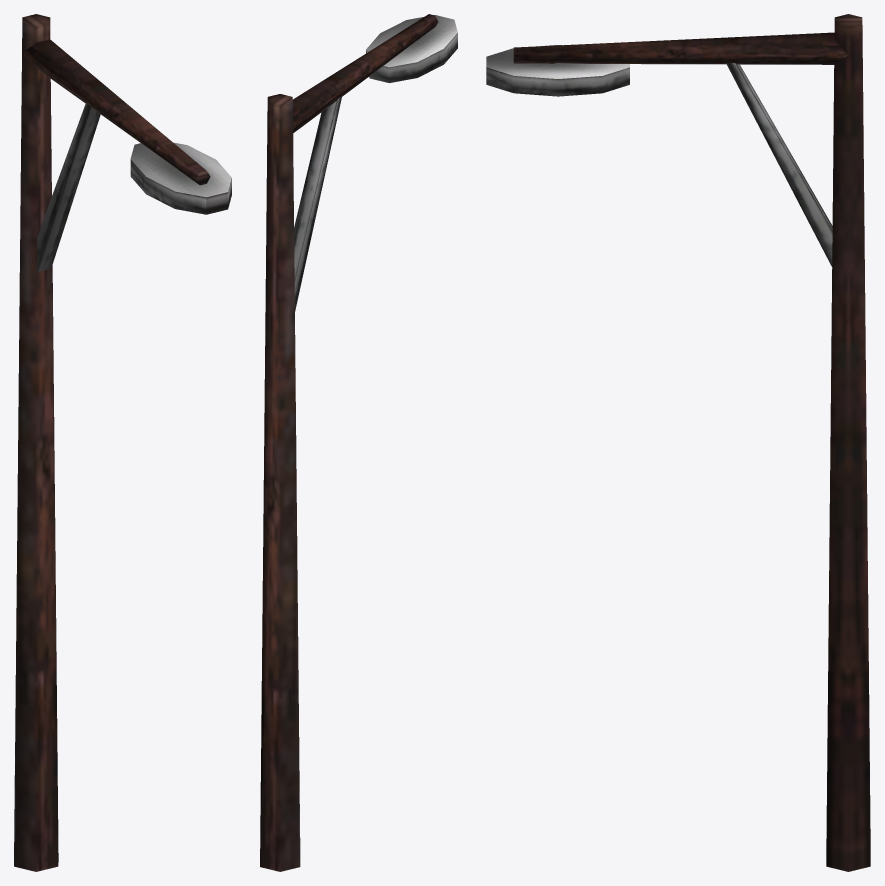
Rendered from Lamp.glb.
3 renders of one model, left to right at view 1: azimuth 30°, elevation 25°; view 2: azimuth 150°, elevation 25°; view 3: azimuth 270°, elevation 25°, orthographic. The views are drawn at different scales.
Parts seen in each view (by area): view 1: LAMP; view 2: LAMP; view 3: LAMP.
Boxes of the visible parts, x1=… form: LAMP: x1=14, y1=14, x2=231, y2=871; LAMP: x1=260, y1=14, x2=457, y2=871; LAMP: x1=486, y1=14, x2=870, y2=871.
Size of the model in its own units: 0.506 by 5.78 by 2.4.
Materials: 1 (1 with a texture image).
